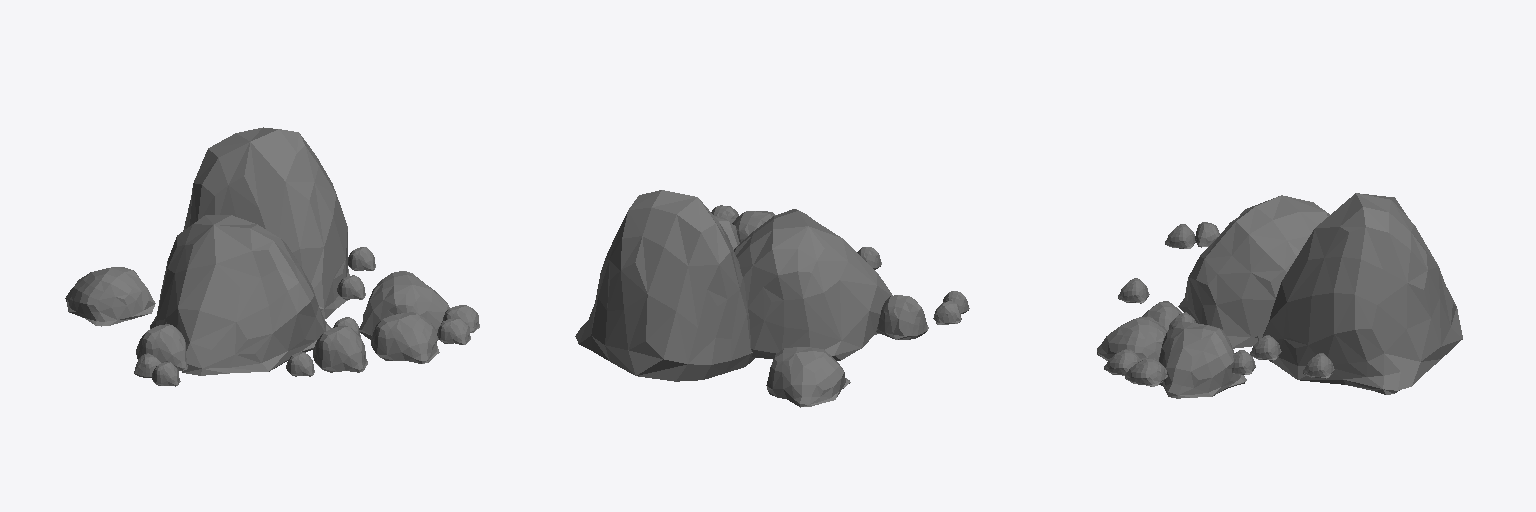
Rendered from Quarry.obj.
3 views of the same model, side by side, from view 1: azimuth 30°, elevation 25°; view 2: azimuth 150°, elevation 25°; view 3: azimuth 270°, elevation 25° (orthographic).
Parts seen in each view (by area): view 1: quarry; view 2: quarry; view 3: quarry.
Part boxes in pixels (bbox=[...]): quarry: bbox=[65, 127, 479, 386]; quarry: bbox=[575, 190, 969, 407]; quarry: bbox=[1097, 193, 1462, 398].
Bounding box in the file's own units: 4.34 × 2.13 × 4.38.